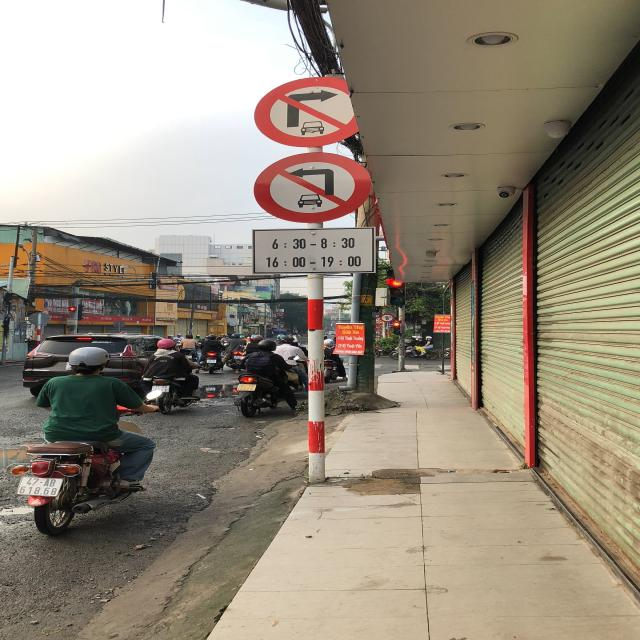Bien bao cam xe o to re phai: (252, 76, 366, 146)
Bien bao cam xe o to re trai: (250, 152, 371, 223)
